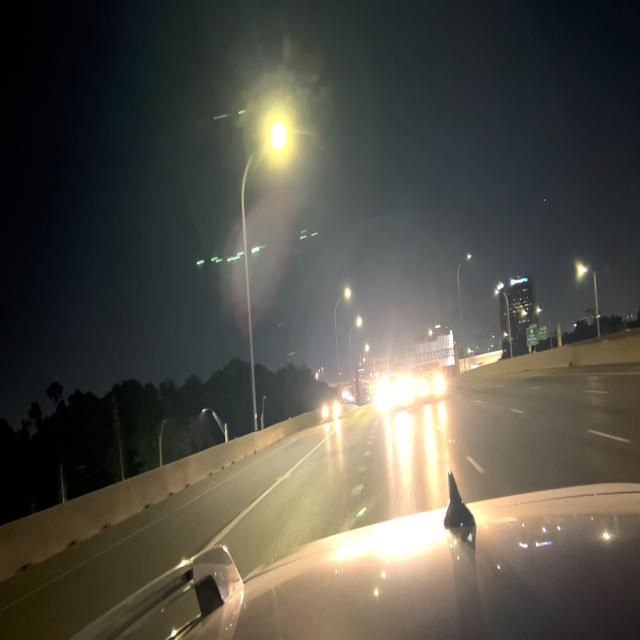back-of-sign: (415, 331, 455, 368)
